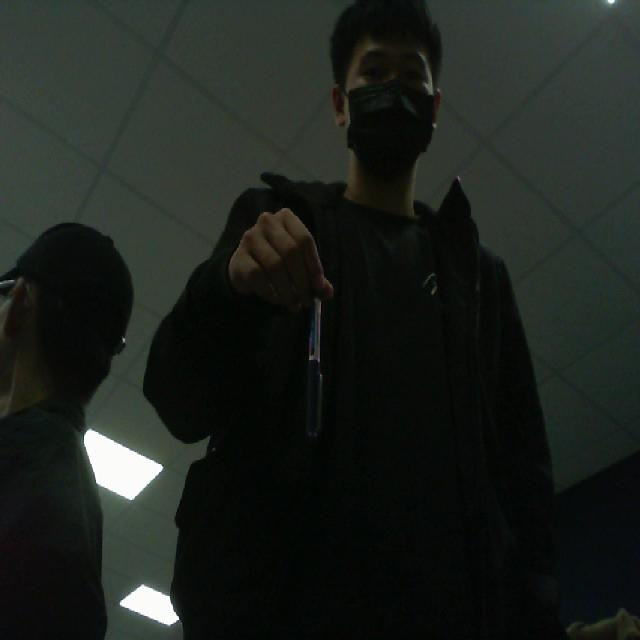Pen: (287, 251, 343, 458)
